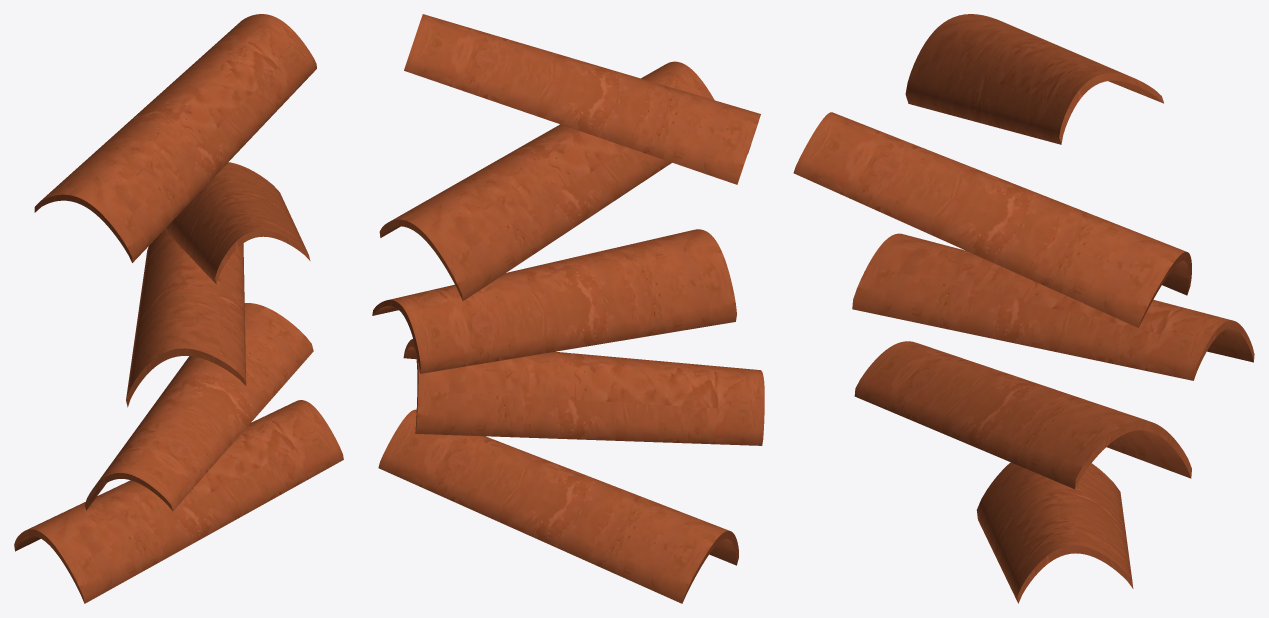
Rendered from COB-CER-001_anim.glb.
3 views of the same model, side by side, from view 1: azimuth 30°, elevation 25°; view 2: azimuth 150°, elevation 25°; view 3: azimuth 270°, elevation 25° (orthographic). The views are drawn at different scales.
Visible parts, largest first — view 1: COB-CER-001_anim4, COB-CER-001_anim0, COB-CER-001_anim1, COB-CER-001_anim2, COB-CER-001_anim3; view 2: COB-CER-001_anim2, COB-CER-001_anim1, COB-CER-001_anim0, COB-CER-001_anim4, COB-CER-001_anim3; view 3: COB-CER-001_anim3, COB-CER-001_anim2, COB-CER-001_anim1, COB-CER-001_anim4, COB-CER-001_anim0.
Part boxes in pixels (bbox=[...]): COB-CER-001_anim4: bbox=[34, 14, 316, 262]; COB-CER-001_anim0: bbox=[14, 400, 343, 603]; COB-CER-001_anim1: bbox=[85, 303, 313, 510]; COB-CER-001_anim2: bbox=[126, 230, 246, 407]; COB-CER-001_anim3: bbox=[164, 162, 310, 284]; COB-CER-001_anim2: bbox=[372, 229, 736, 373]; COB-CER-001_anim1: bbox=[403, 339, 764, 445]; COB-CER-001_anim0: bbox=[378, 409, 738, 603]; COB-CER-001_anim4: bbox=[404, 14, 760, 184]; COB-CER-001_anim3: bbox=[379, 61, 714, 300]; COB-CER-001_anim3: bbox=[793, 112, 1191, 327]; COB-CER-001_anim2: bbox=[852, 233, 1254, 380]; COB-CER-001_anim1: bbox=[854, 341, 1191, 489]; COB-CER-001_anim4: bbox=[905, 14, 1163, 144]; COB-CER-001_anim0: bbox=[976, 462, 1133, 603].
Size of the model in its own units: 0.49 by 0.7587 by 0.5407.
Materials: 1 (1 with a texture image).
